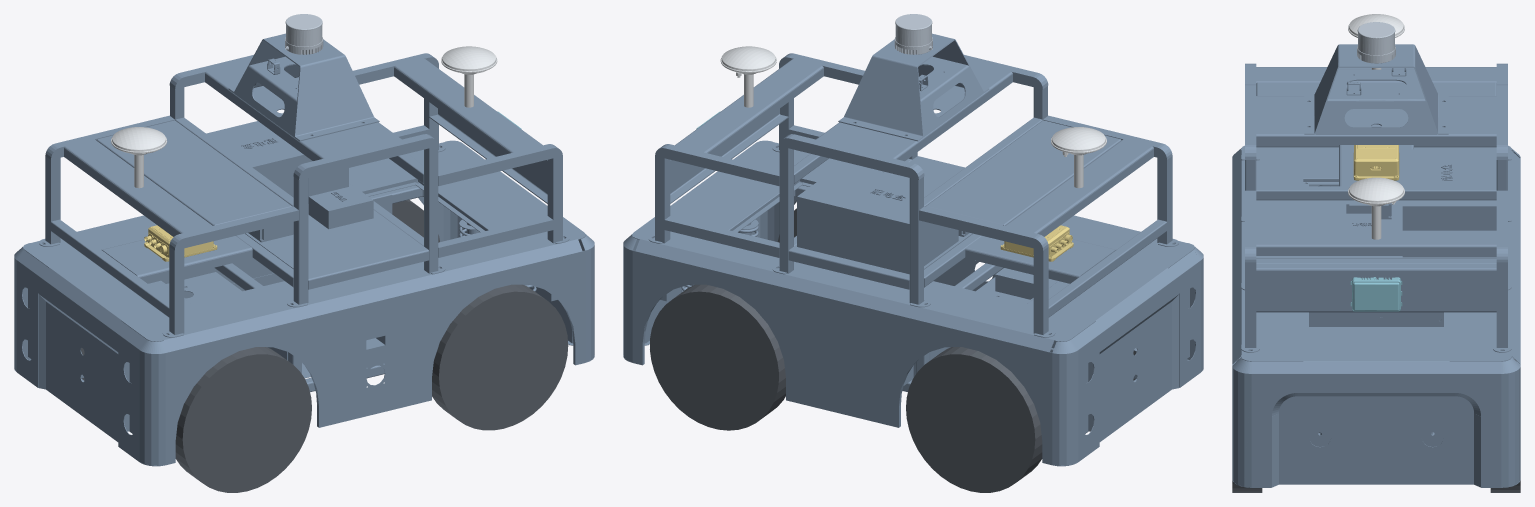
Rendered from ackermann_urdf_meters.glb.
The picture shows the model from 3 angles, left to right: view 1: azimuth 30°, elevation 25°; view 2: azimuth 150°, elevation 25°; view 3: azimuth 270°, elevation 25°; orthographic projection.
Parts seen in each view (by area): view 1: base_link, front_right_wheel_link, rear_right_wheel_link, gnss_f_link, gnss_b_link, lidar_link, imu_link, front_left_wheel_link; view 2: base_link, rear_left_wheel_link, front_left_wheel_link, gnss_f_link, gnss_b_link, lidar_link, imu_link; view 3: base_link, radar_link, gnss_f_link, imu_link, lidar_link, gnss_b_link.
Boxes of the visible parts, x1,y1,x2,y2 form: base_link: (14,33,594,466); front_right_wheel_link: (432,284,568,430); rear_right_wheel_link: (175,347,311,492); gnss_f_link: (441,46,497,107); gnss_b_link: (111,127,167,188); lidar_link: (285,14,323,54); imu_link: (144,225,217,261); front_left_wheel_link: (392,199,439,242); base_link: (623,33,1203,466); rear_left_wheel_link: (906,347,1042,492); front_left_wheel_link: (650,284,785,430); gnss_f_link: (720,46,776,107); gnss_b_link: (1051,127,1106,188); lidar_link: (894,14,932,54); imu_link: (1000,225,1073,261); base_link: (1232,44,1520,487); radar_link: (1350,277,1402,311); gnss_f_link: (1348,177,1404,239); imu_link: (1353,145,1399,180); lidar_link: (1357,22,1395,63); gnss_b_link: (1348,14,1404,69).
Bounding box in the file's own units: 1.41 × 1.15 × 0.768.
